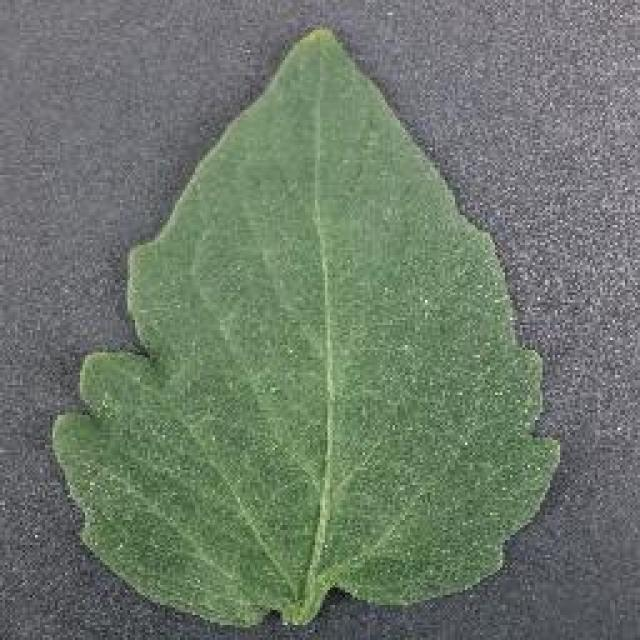Tomato healthy leaf: (58, 29, 550, 616)
